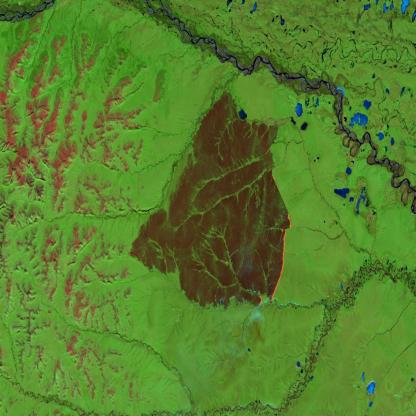fire: (256, 207, 293, 309)
